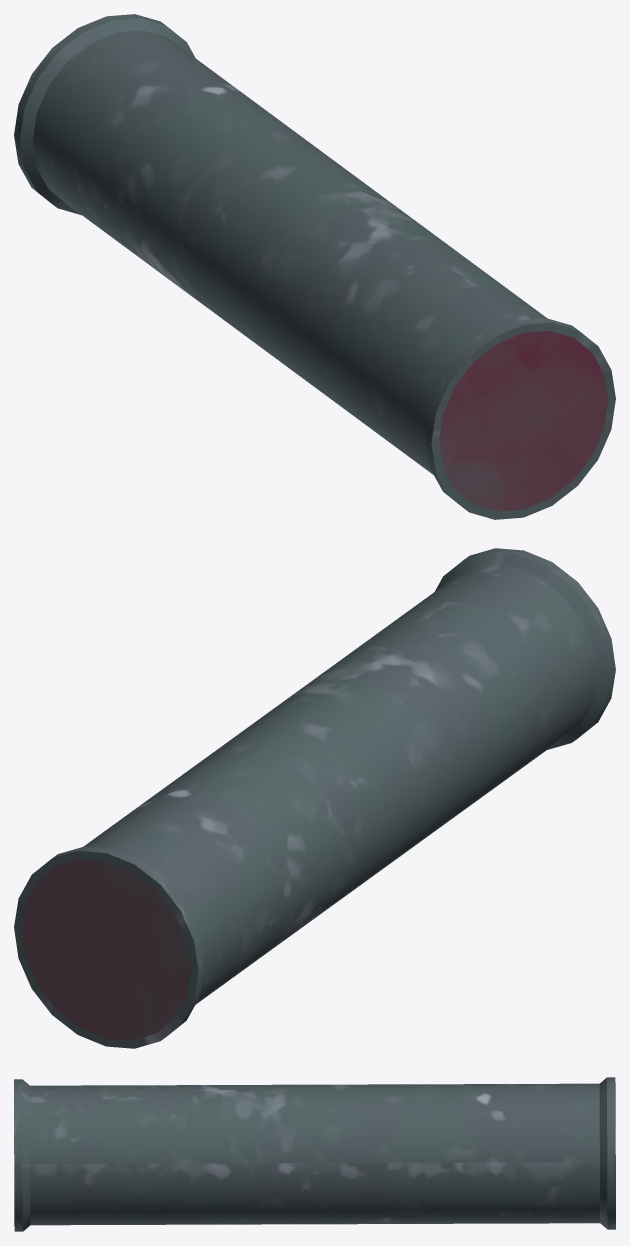
The model's file is Straight_Pipe.fbx.
The picture shows the model from 3 angles, top to bottom: view 1: azimuth 30°, elevation 25°; view 2: azimuth 150°, elevation 25°; view 3: azimuth 270°, elevation 25°; orthographic projection. The views are drawn at different scales.
Parts seen in each view (by area): view 1: StraightPipe; view 2: StraightPipe; view 3: StraightPipe.
Part boxes in pixels (x1,y1,x2,y2): StraightPipe: (14, 14, 615, 519); StraightPipe: (14, 548, 615, 1048); StraightPipe: (14, 1077, 615, 1231).
Size of the model in its own units: 41.09 by 41.71 by 161.
